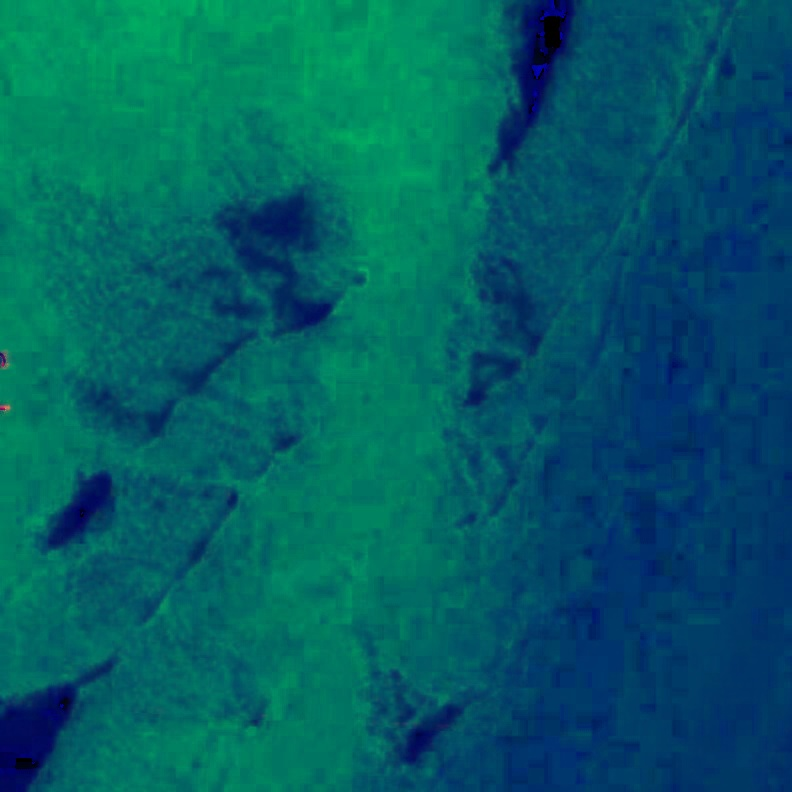rip_current: (263, 213, 499, 685)
